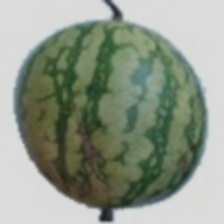watermelon: (43, 22, 218, 200)
